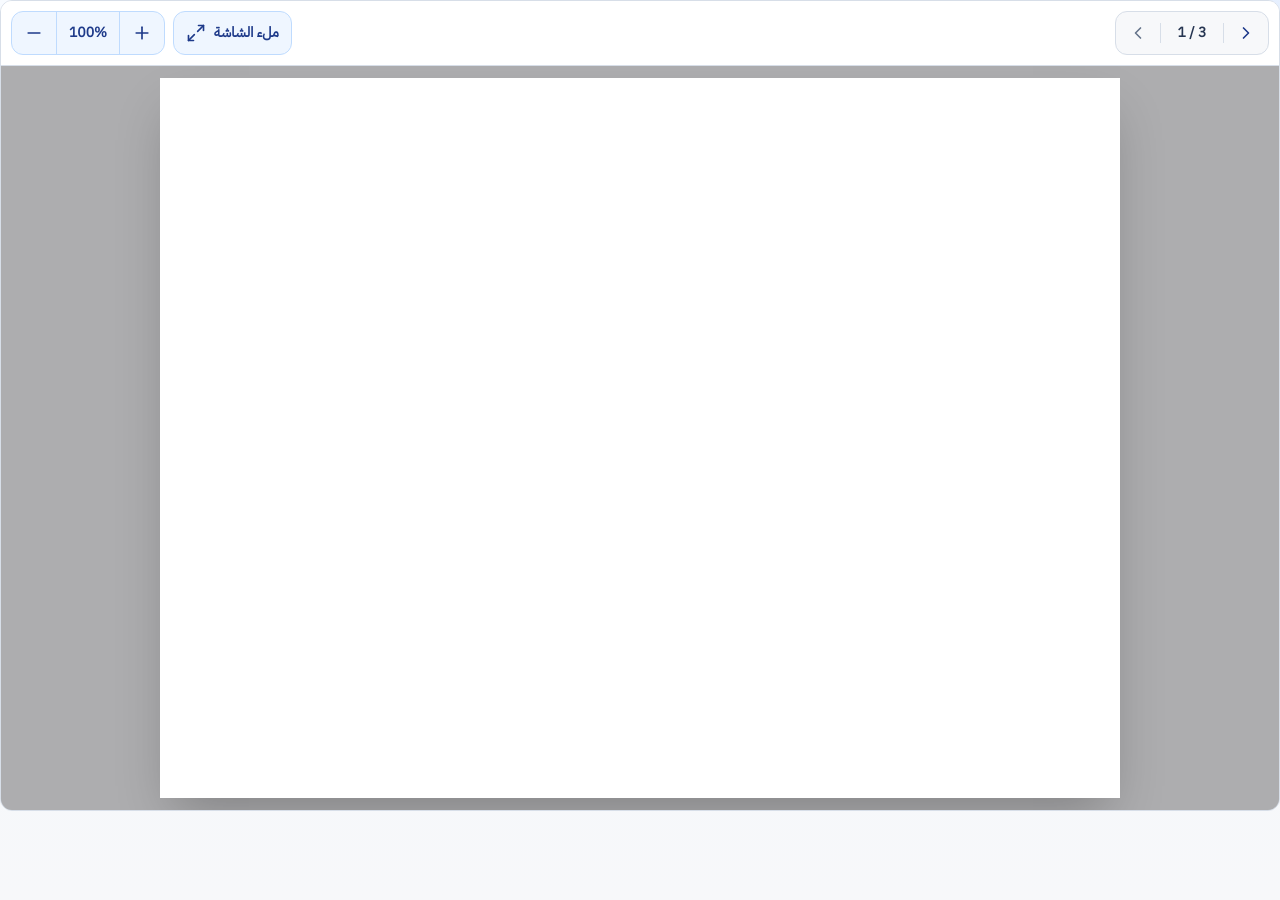
Test: mobile PPTX preview › switches one slide at a time and zooms without reloading the file
The image size is (1280, 900).
Later steps or results of the test are not shown.
Click the button named "الصفحة التالية" at (1246, 33), box [1224,11,1268,55]
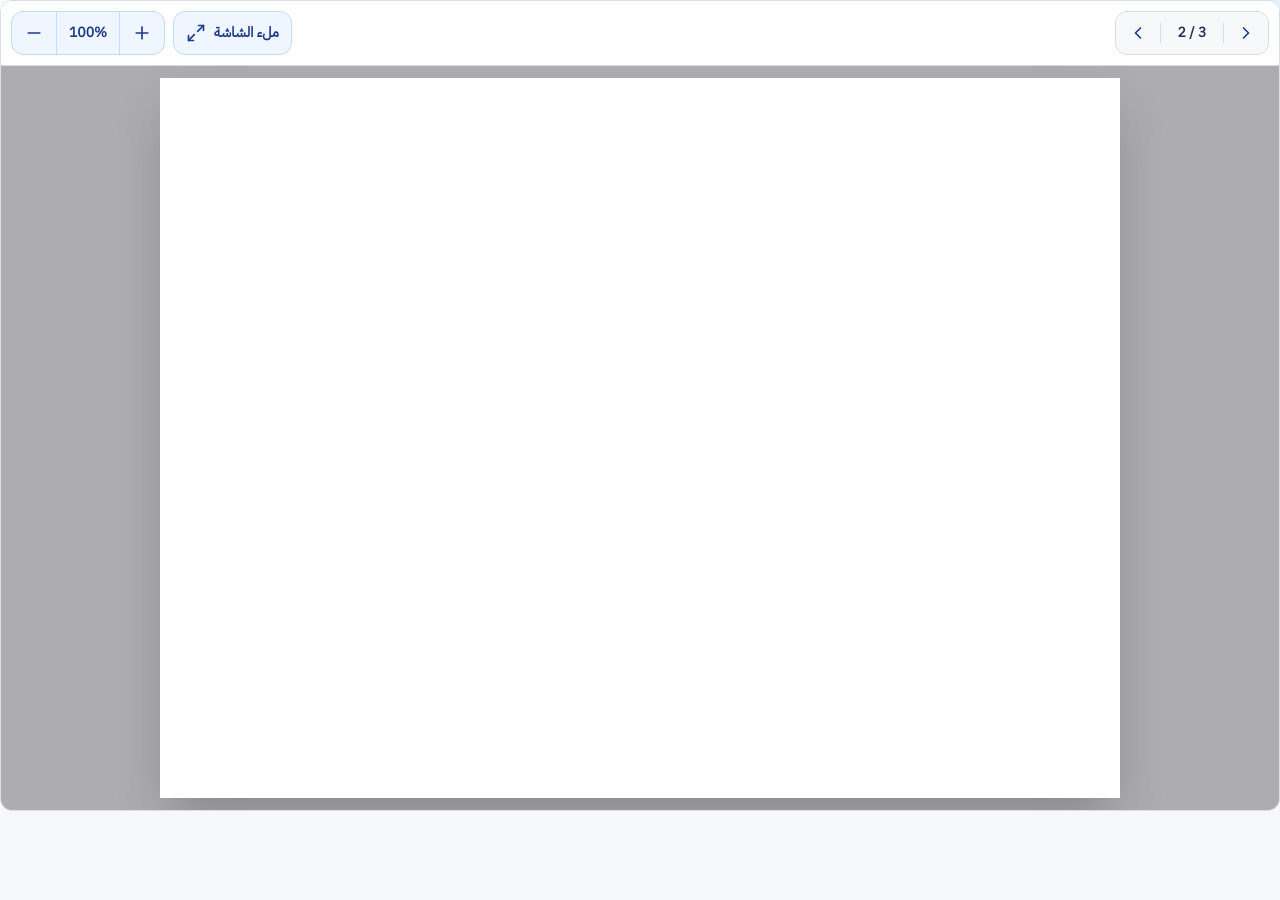
Click the button named "تكبير" at (142, 33), box [120,11,164,55]
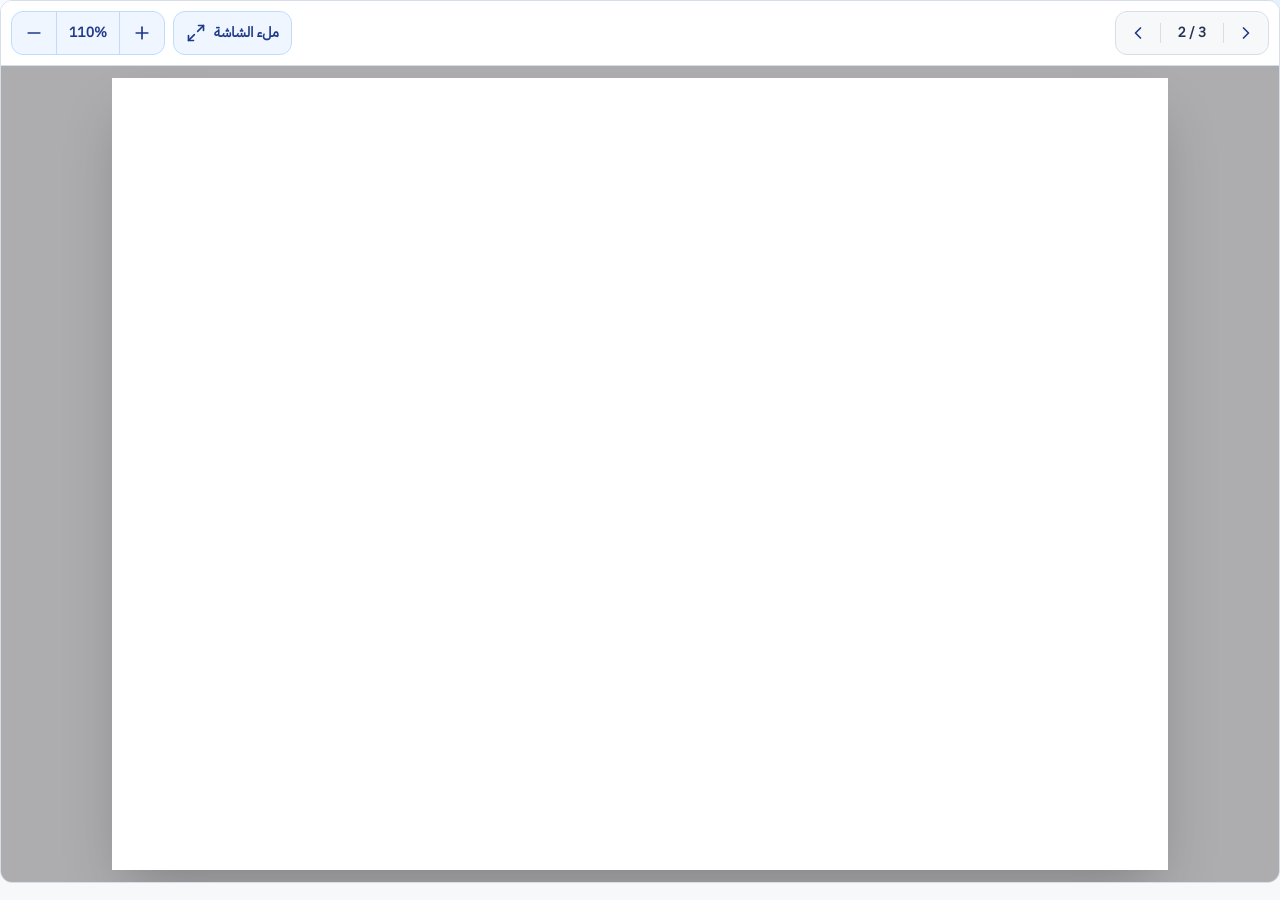
Now the button named "ملاءمة العرض للشاشة" reads "110%", box [56,11,120,55]
